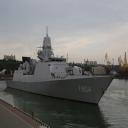Fragata: (6, 18, 117, 106)
